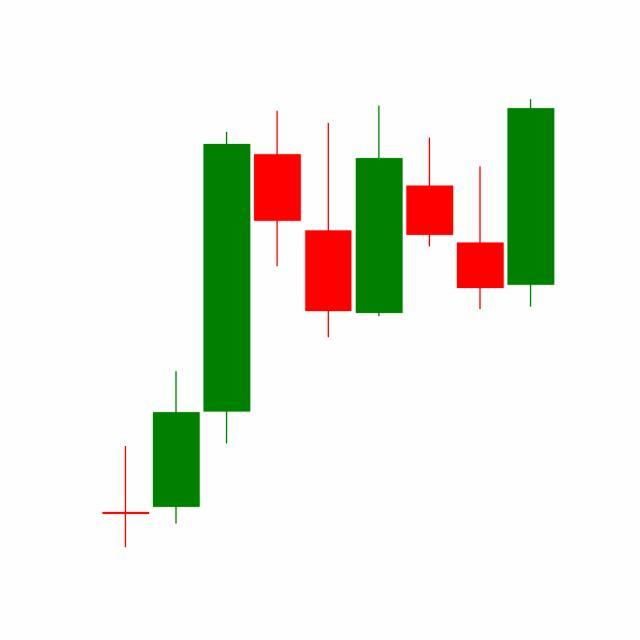Hikkake Pattern: (302, 99, 555, 341)
